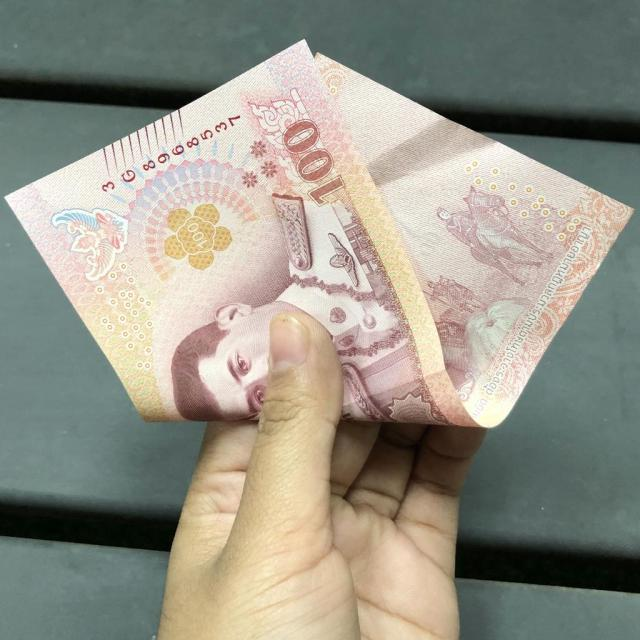THAI100: (6, 40, 632, 426)
